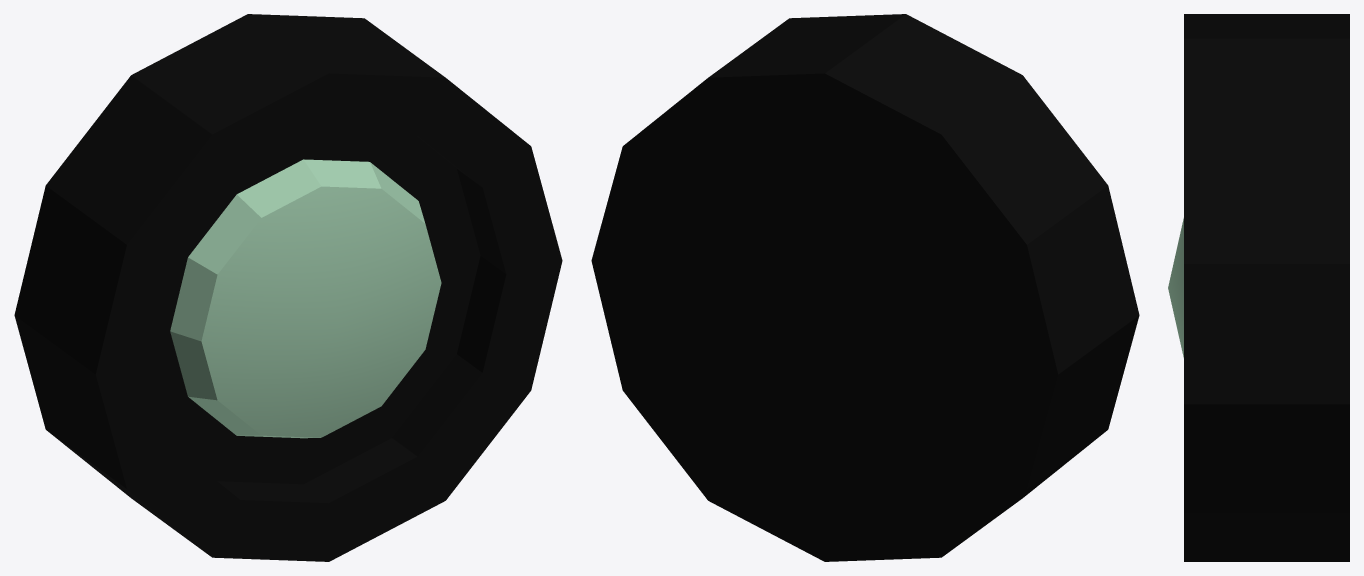
Rendered from wheel.obj.
3 views of the same model, side by side, from view 1: azimuth 30°, elevation 25°; view 2: azimuth 150°, elevation 25°; view 3: azimuth 270°, elevation 25° (orthographic). The views are drawn at different scales.
Visible parts, largest first — view 1: pCylinder2_rubber_0, pCylinder3_metal_0; view 2: pCylinder2_rubber_0; view 3: pCylinder2_rubber_0, pCylinder3_metal_0.
Boxes of the visible parts, x1,y1,x2,y2 form: pCylinder2_rubber_0: [14, 14, 562, 561]; pCylinder3_metal_0: [170, 159, 441, 438]; pCylinder2_rubber_0: [591, 14, 1139, 561]; pCylinder2_rubber_0: [1184, 14, 1349, 561]; pCylinder3_metal_0: [1168, 218, 1183, 357].
Size of the model in its own units: 1.29 by 1.29 by 0.427.
